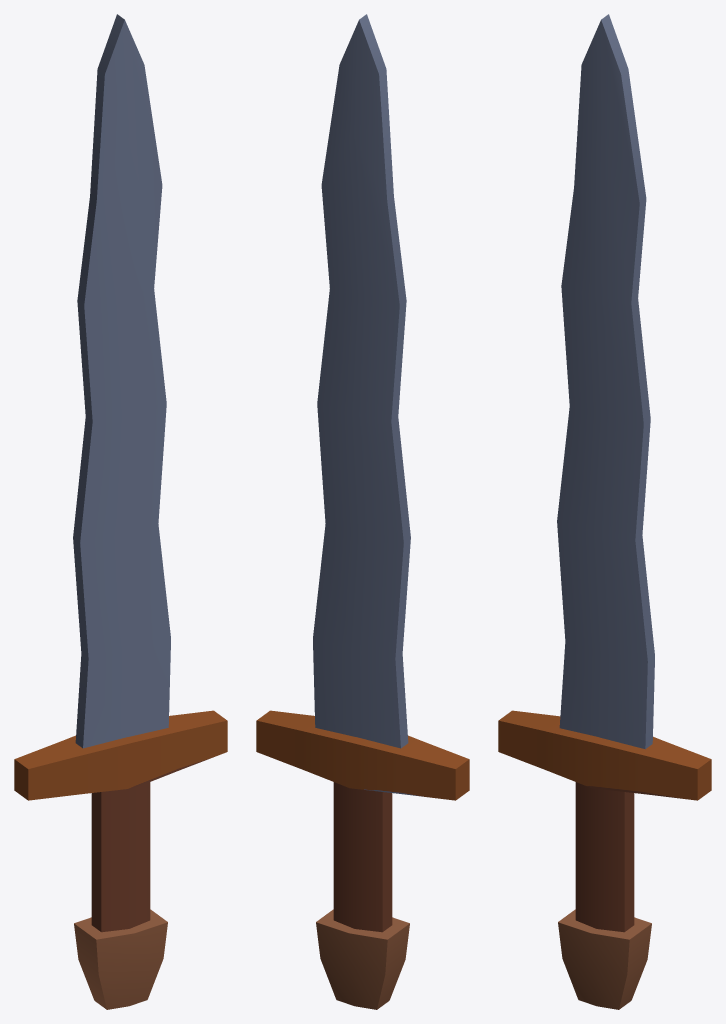
The model's file is FlameSword.fbx.
The picture shows the model from 3 angles, left to right: view 1: azimuth 30°, elevation 25°; view 2: azimuth 150°, elevation 25°; view 3: azimuth 330°, elevation 25°; orthographic projection.
Visible parts, largest first — view 1: FlameSword; view 2: FlameSword; view 3: FlameSword.
Boxes of the visible parts, x1,y1,x2,y2 form: FlameSword: [14, 14, 227, 1009]; FlameSword: [256, 14, 469, 1009]; FlameSword: [498, 14, 711, 1009].
Bounding box in the file's own units: 42.62 × 201 × 10.59.
